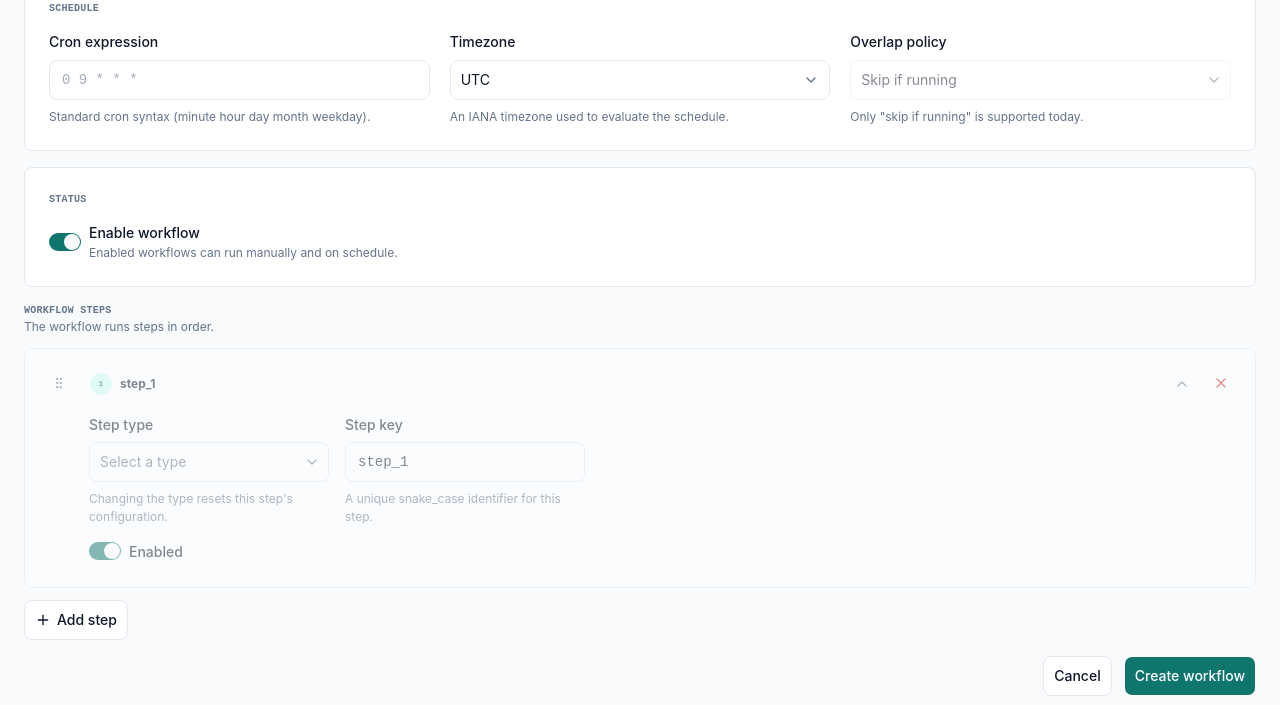
Test case: CreateWorkflowPage › shows validation errors for empty required fields
The image size is (1280, 705).
(page scrolled)
Click the button "Create workflow". click: (1190, 676)
box: 1124,656 -> 1256,696
(page scrolled)
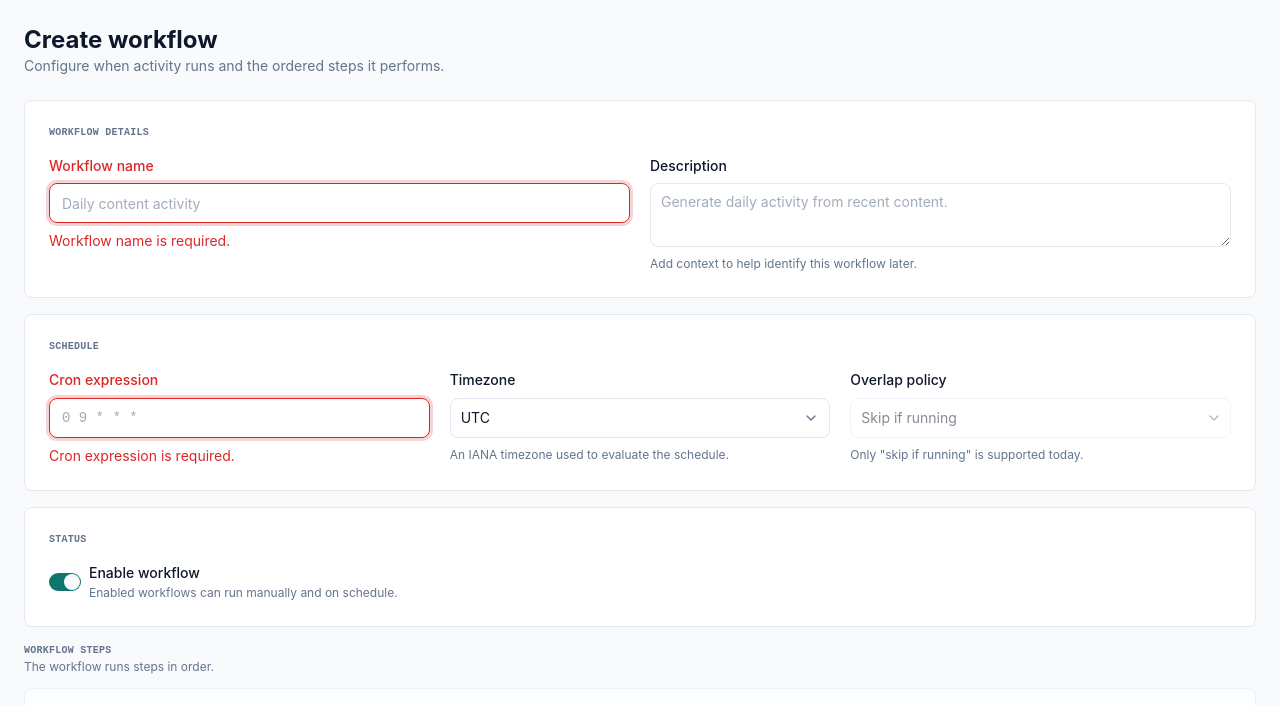
Result: the text "Workflow name is required." is shown at 49,232 -> 230,249
Result: the text "Cron expression is required." is shown at 49,446 -> 235,464
